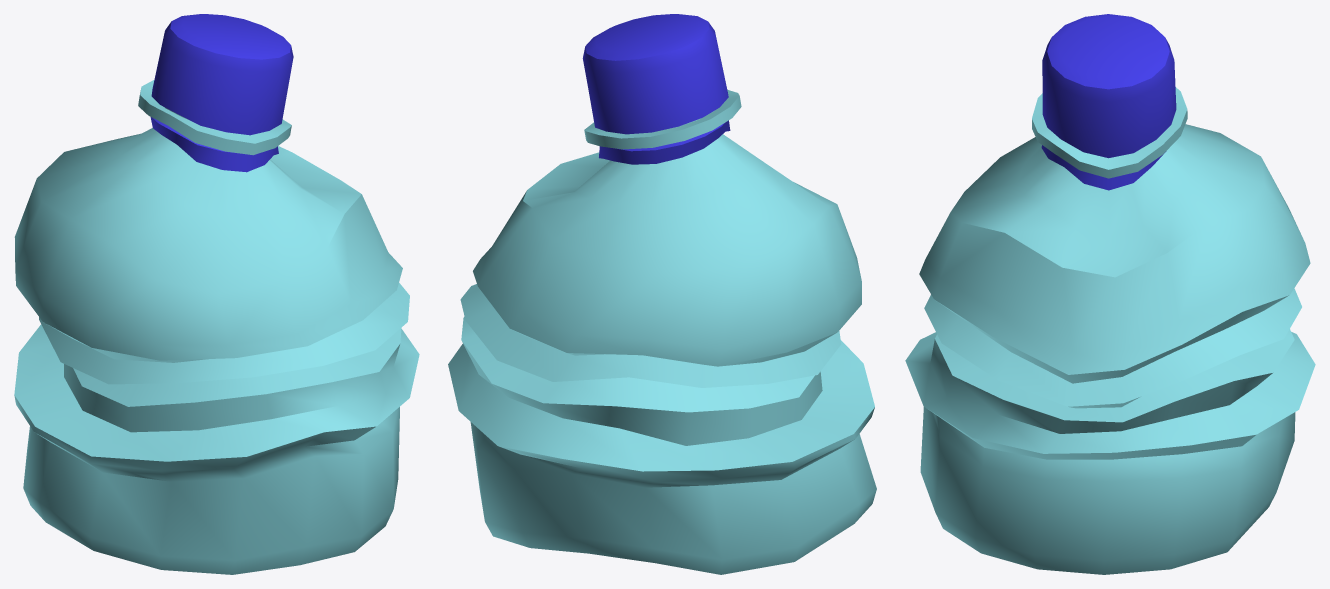
Rendered from PlasticBottle.fbx.
3 renders of one model, left to right at view 1: azimuth 30°, elevation 25°; view 2: azimuth 150°, elevation 25°; view 3: azimuth 270°, elevation 25°, orthographic. The views are drawn at different scales.
Parts seen in each view (by area): view 1: PlaticBottle; view 2: PlaticBottle; view 3: PlaticBottle.
Boxes of the visible parts, x1,y1,x2,y2 form: PlaticBottle: (14, 14, 419, 574); PlaticBottle: (448, 14, 876, 574); PlaticBottle: (905, 14, 1315, 574).
Size of the model in its own units: 8.6 by 10.9 by 8.44.
